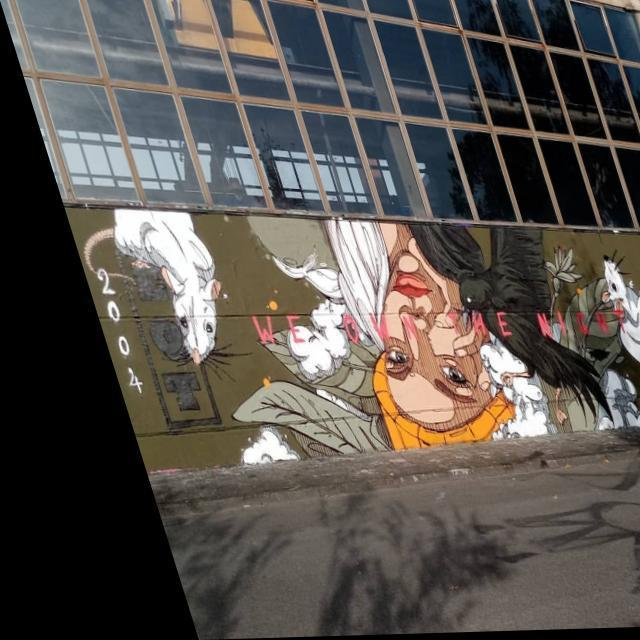-: (157, 214, 626, 467), (72, 208, 220, 364), (576, 260, 640, 382), (70, 263, 126, 399), (621, 262, 640, 396)
